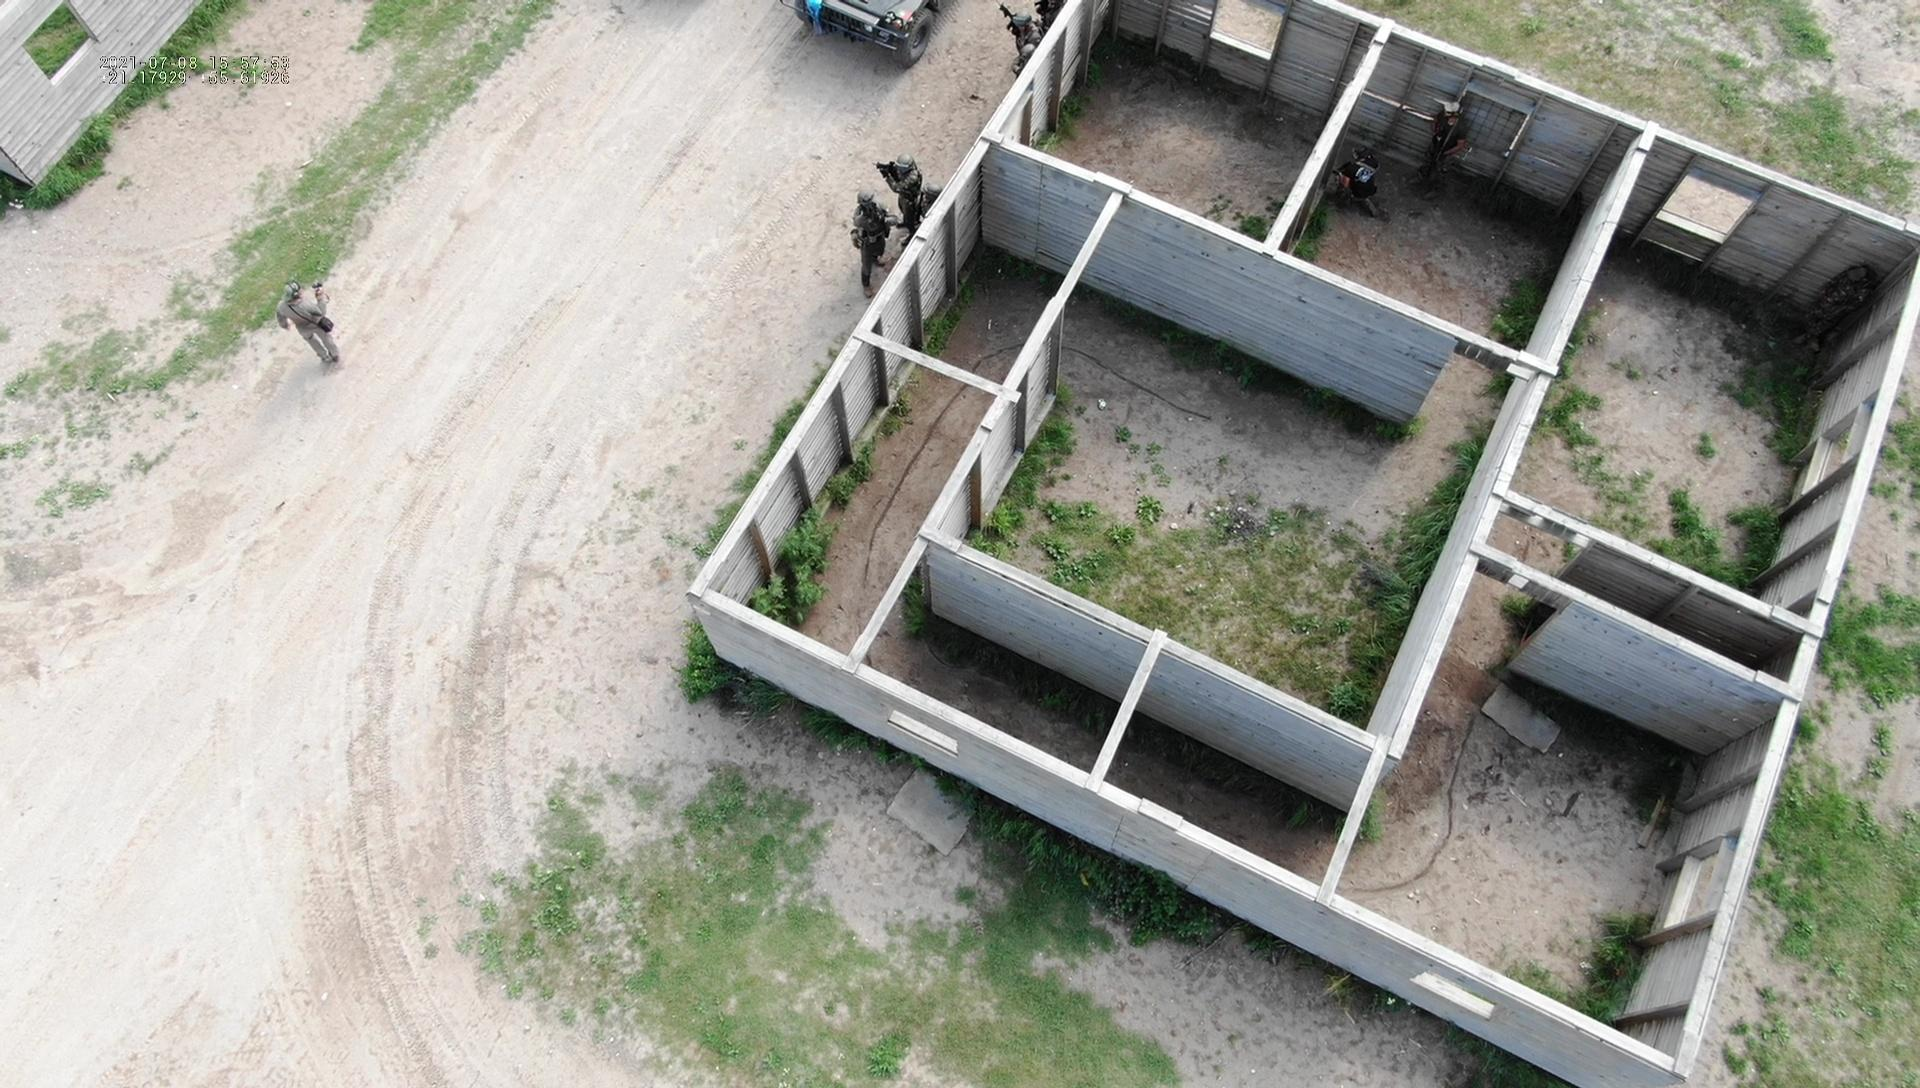Soldier: (266, 278, 365, 378), (1418, 98, 1484, 222), (1333, 136, 1400, 237), (874, 149, 953, 233), (844, 190, 905, 291), (1002, 7, 1054, 51)
